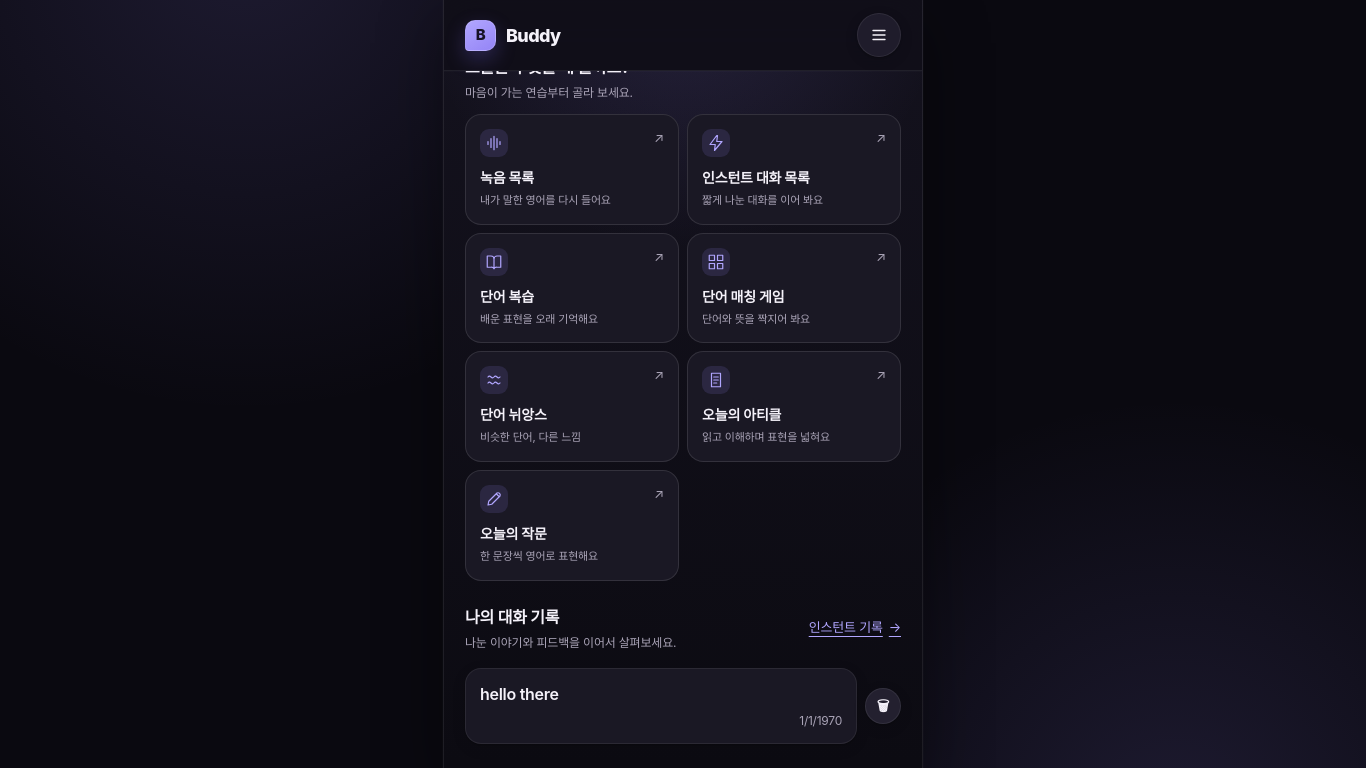
Test case: room list › confirming end conversation freezes the session and returns to the list immediately
The image size is (1366, 768).
(page scrolled)
Click the text "hello there" at (519, 694), box [480,684,559,704]
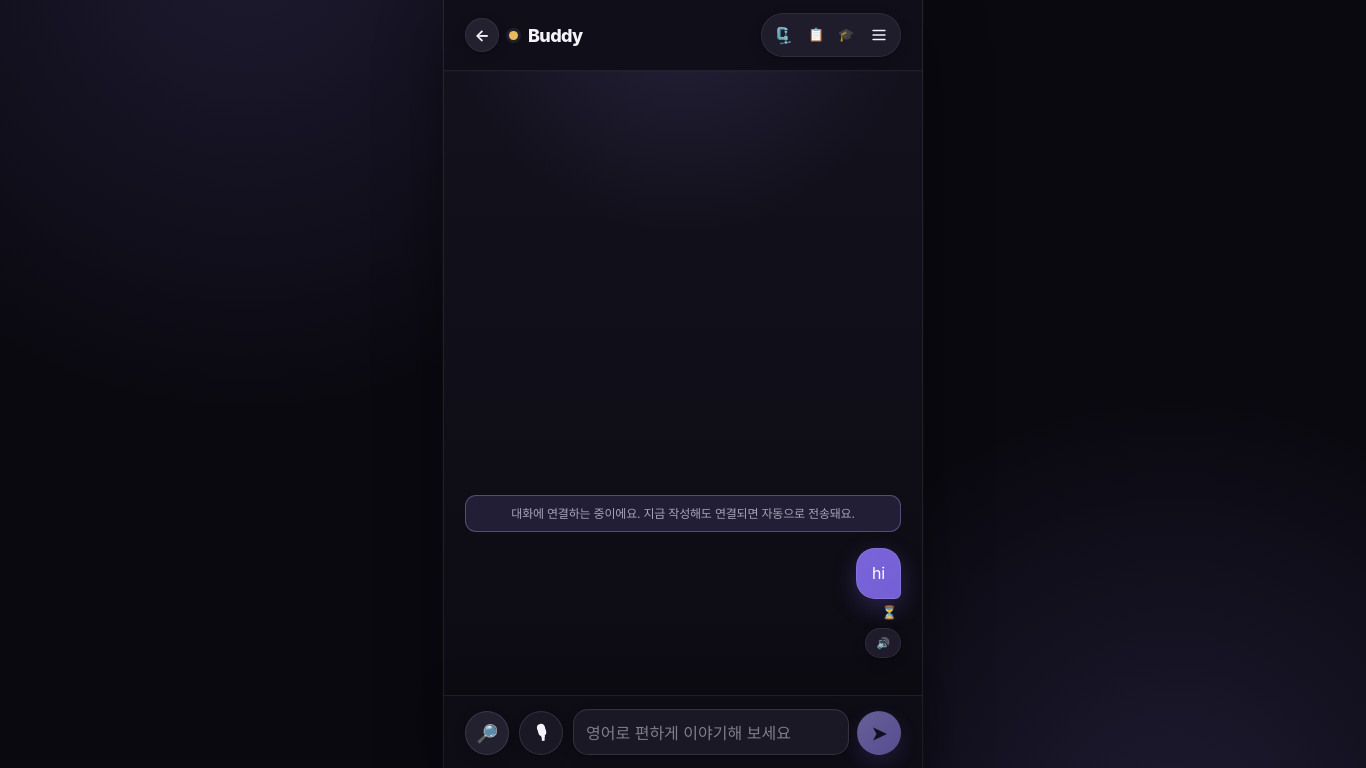
Expected: the text "hi" is shown, [856,548,901,599]
Click the button named "대화 종료" at (846, 35), box [832,21,860,49]
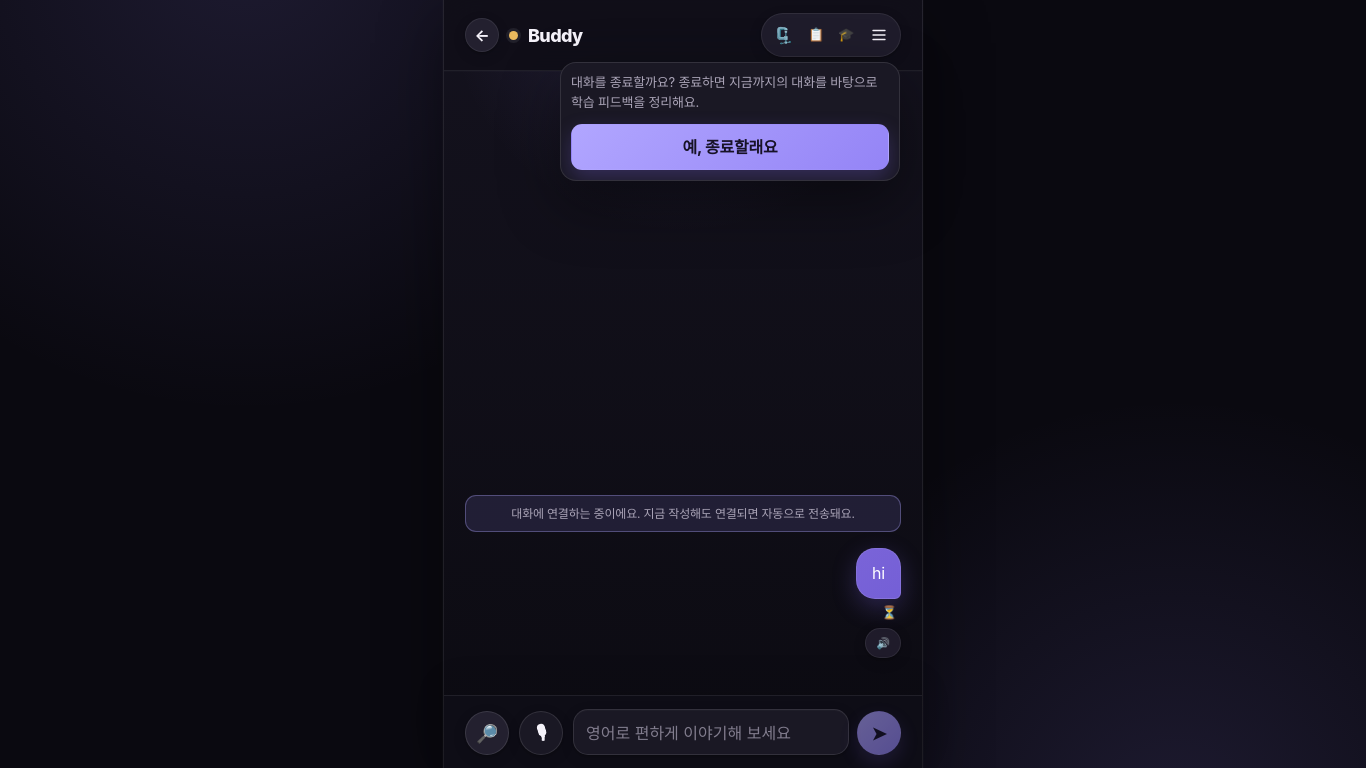
Click the button "예, 종료할래요" at (730, 147), box [571,124,889,170]
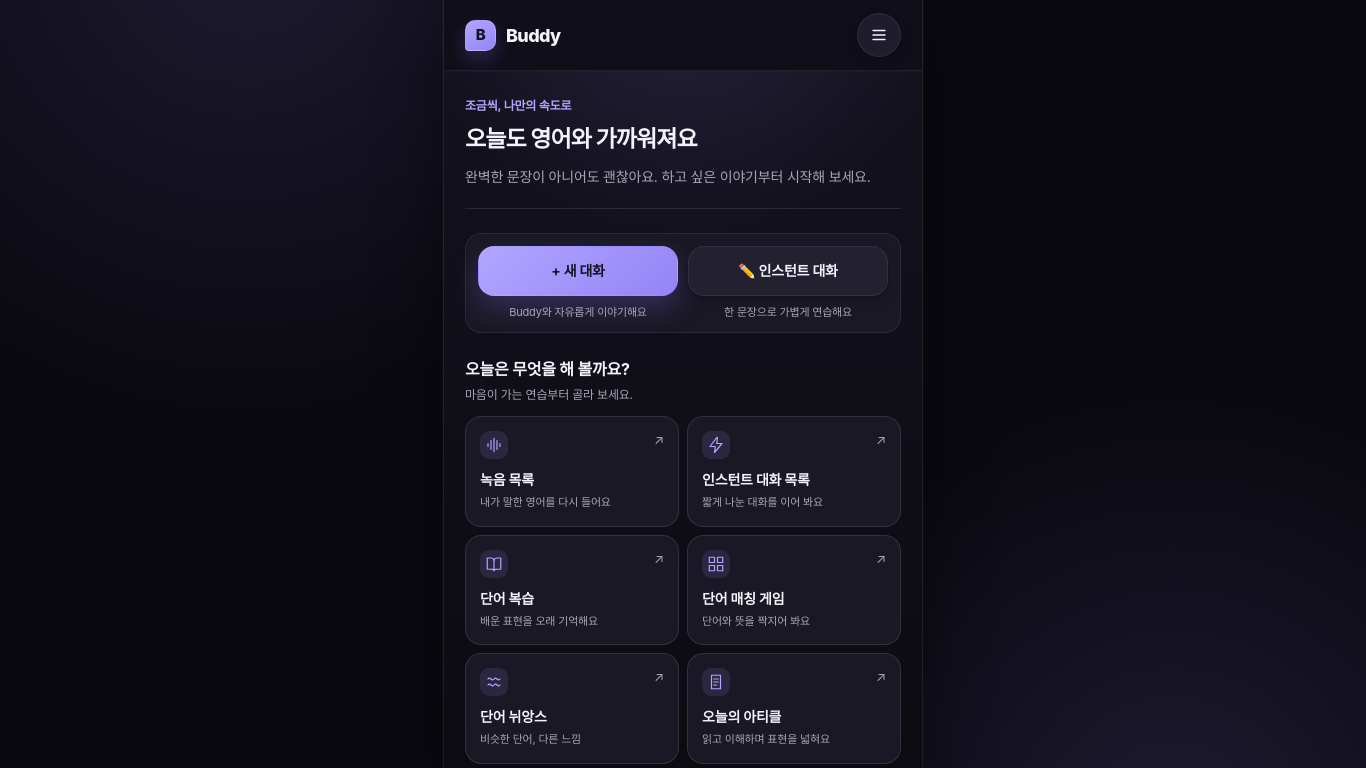
Expected: the button "+ 새 대화" is shown, [478,246,678,296]
